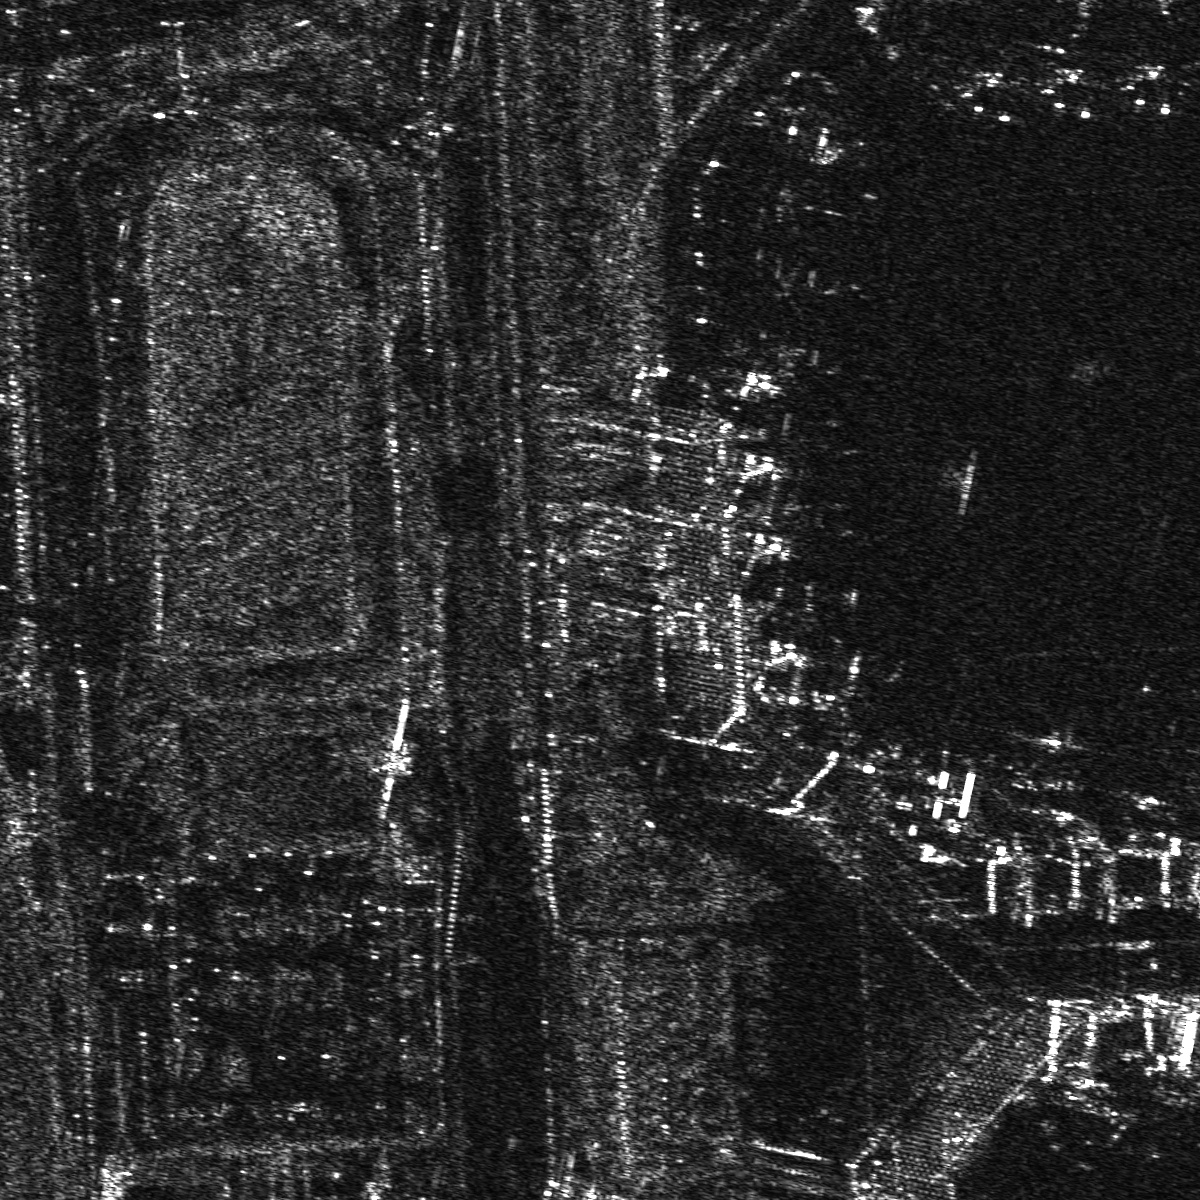A220: (985, 716, 1096, 805)
Boeing737: (1030, 63, 1105, 124), (1120, 59, 1192, 116), (953, 69, 1024, 123)
